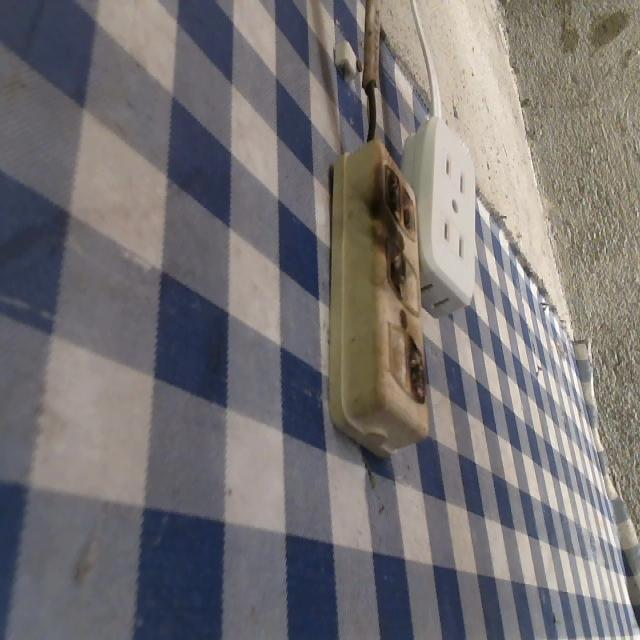-: (371, 152, 424, 243), (366, 240, 413, 304), (398, 329, 433, 404)
